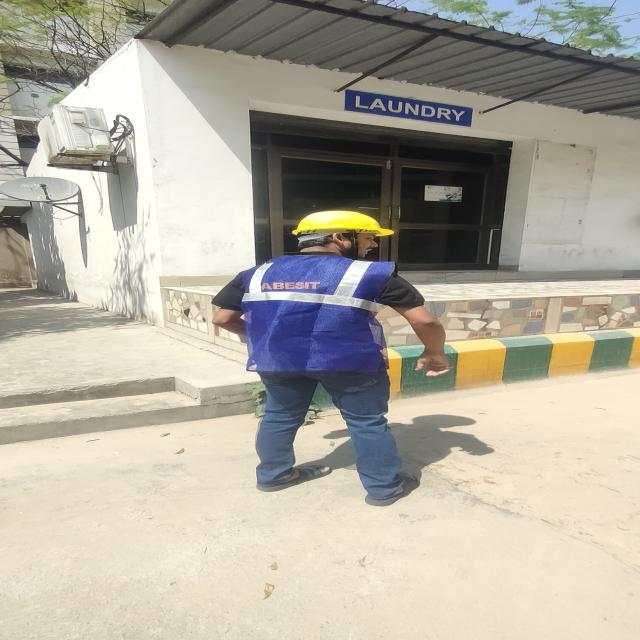safe: (216, 211, 448, 506)
